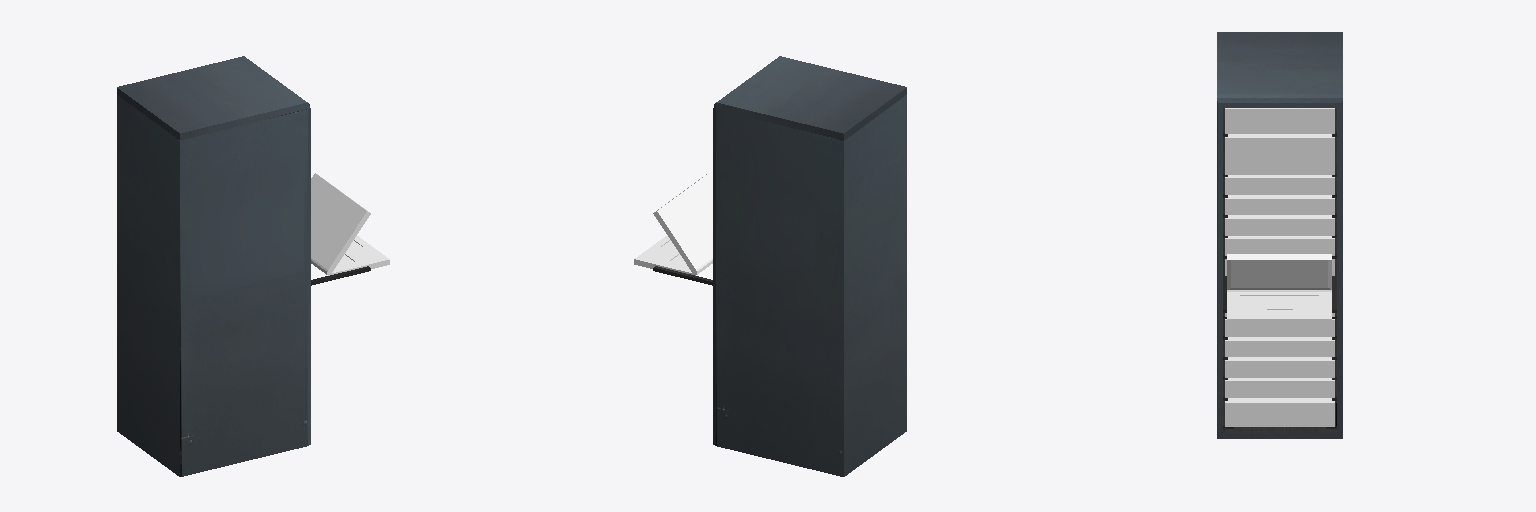
3 renders of one model, left to right at view 1: azimuth 30°, elevation 25°; view 2: azimuth 150°, elevation 25°; view 3: azimuth 270°, elevation 25°, orthographic.
Parts seen in each view (by area): view 1: rack_Cube1_auv, console_console_auv; view 2: rack_Cube1_auv, console_console_auv; view 3: rack_Cube1_auv, console_console_auv, ups_Cube12_auv, misc1_Cube12_auv, misc2_Cube12_auv, 1u_server2_Cube12_auv, 1u_server7_Cube12_auv, 1u_server9_Cube12_auv, 1u_server1_Cube12_auv, 1u_server3_Cube12_auv, 1u_server8_Cube12_auv, 1u_server6_Cube12_auv (+1 smaller).
Part boxes in pixels (left/top/right/bottom): rack_Cube1_auv: left=117, top=56, right=310, bottom=476; console_console_auv: left=311, top=173, right=389, bottom=275; rack_Cube1_auv: left=713, top=56, right=906, bottom=476; console_console_auv: left=634, top=173, right=712, bottom=275; rack_Cube1_auv: left=1217, top=32, right=1342, bottom=438; console_console_auv: left=1227, top=254, right=1331, bottom=323; ups_Cube12_auv: left=1225, top=134, right=1334, bottom=174; misc1_Cube12_auv: left=1225, top=398, right=1334, bottom=426; misc2_Cube12_auv: left=1225, top=108, right=1334, bottom=133; 1u_server2_Cube12_auv: left=1225, top=357, right=1334, bottom=377; 1u_server7_Cube12_auv: left=1225, top=215, right=1334, bottom=235; 1u_server9_Cube12_auv: left=1225, top=175, right=1334, bottom=194; 1u_server1_Cube12_auv: left=1225, top=378, right=1334, bottom=397; 1u_server3_Cube12_auv: left=1225, top=337, right=1334, bottom=356; 1u_server8_Cube12_auv: left=1225, top=195, right=1334, bottom=214; 1u_server6_Cube12_auv: left=1225, top=236, right=1334, bottom=255.
Size of the model in its own units: 3.38 by 5.15 by 1.72.
Materials: 3 (1 with a texture image).